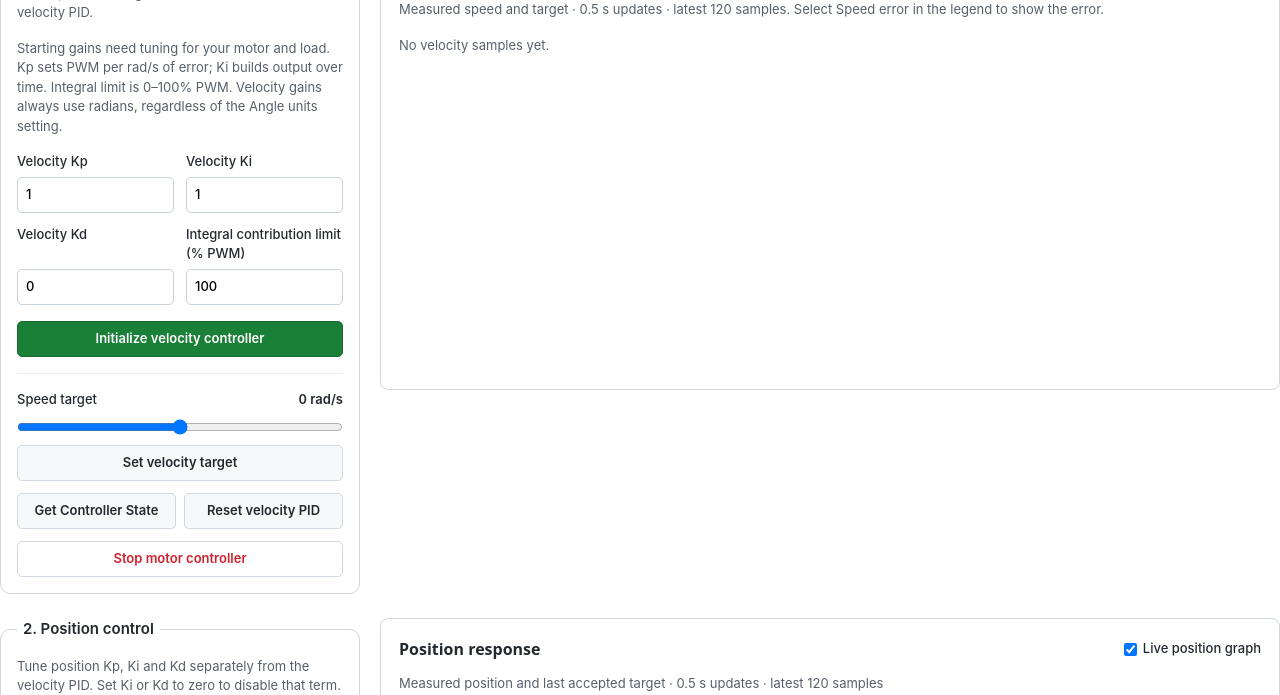
Test: position control integration › uses direct PID starting gains and explains disabled integral action on motor
(page scrolled)
Expected: the field labelled "Velocity Kp" holds "1", [17,176,174,212]
Expected: the field labelled "Velocity Ki" holds "1", [186,176,343,212]
Click the button "Initialize velocity controller" at [180, 338], box [17,320,343,356]
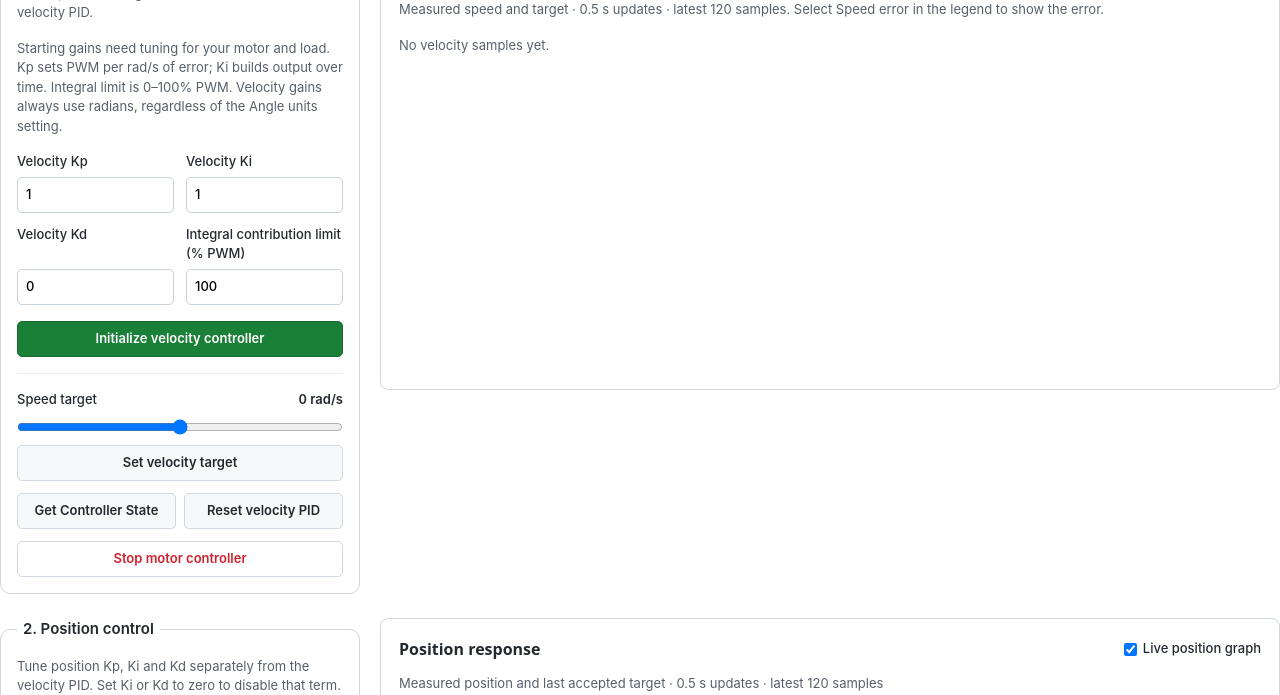
Replace the text in the field labelled "Velocity Ki" with "0" at [264, 194], box [186,176,343,212]
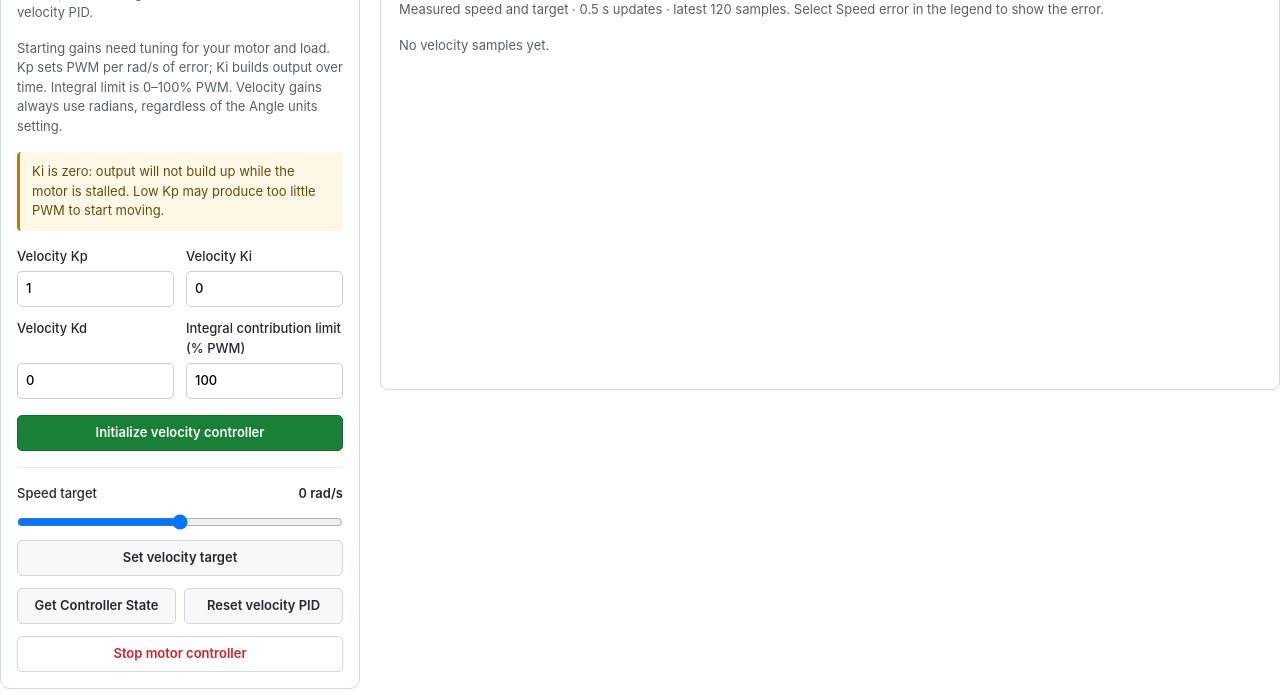
Expected: the text "Ki is zero: output will not build up" is shown, [32,163,316,218]
Replace the text in the field labelled "Velocity Ki" with "1" at [264, 289], box [186,271,343,307]
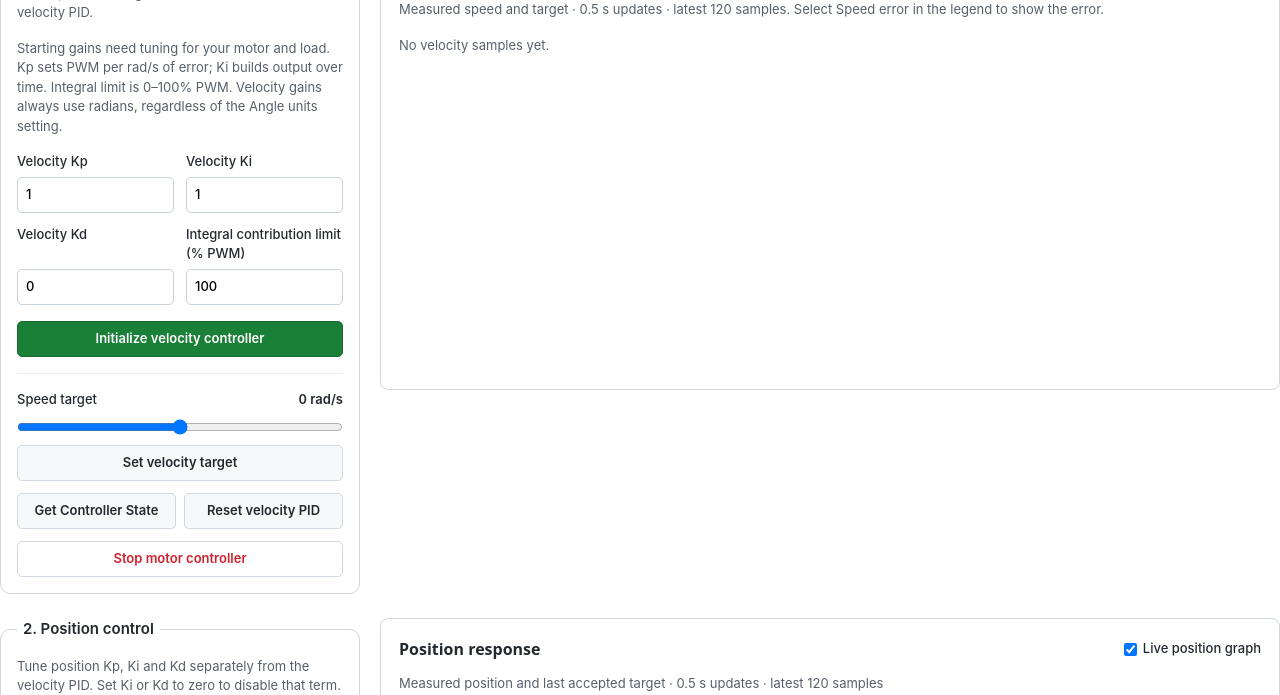
Replace the text in the number field labelled "Integral contribution limit (% PWM)" with "0" at [264, 286], box [186,268,343,304]
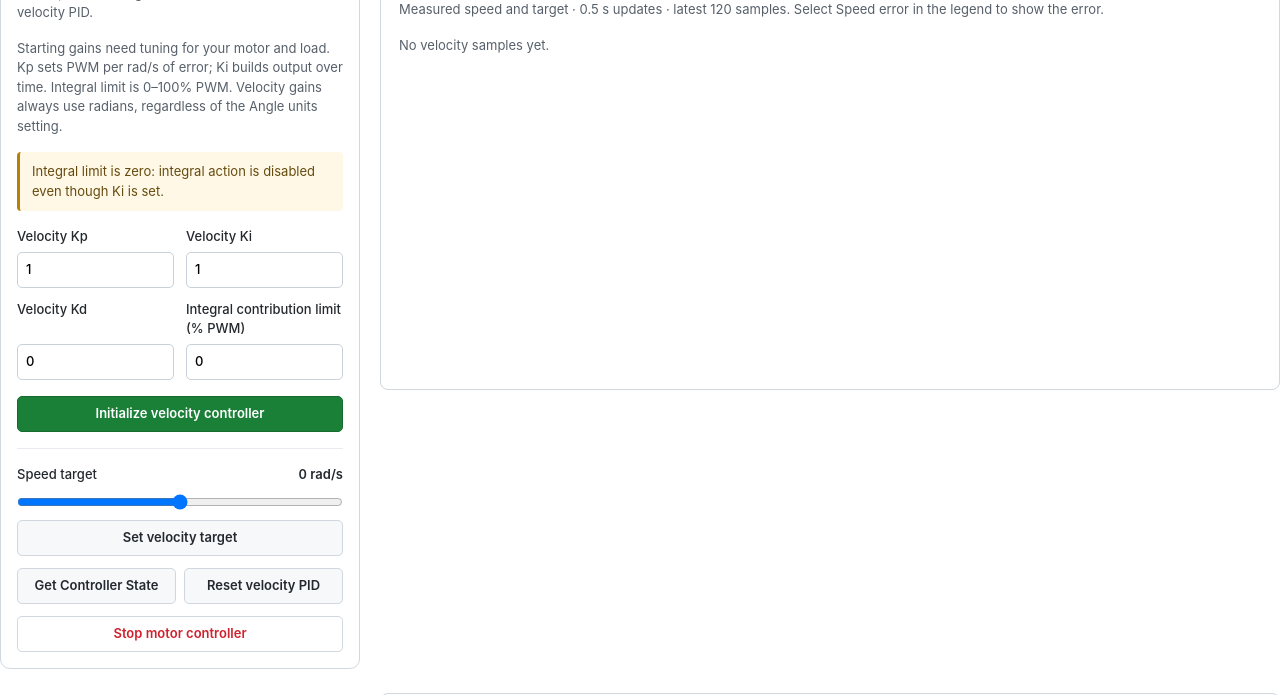
Expected: the text "Integral limit is zero: integral action is disabled" is shown, [32,163,315,198]
